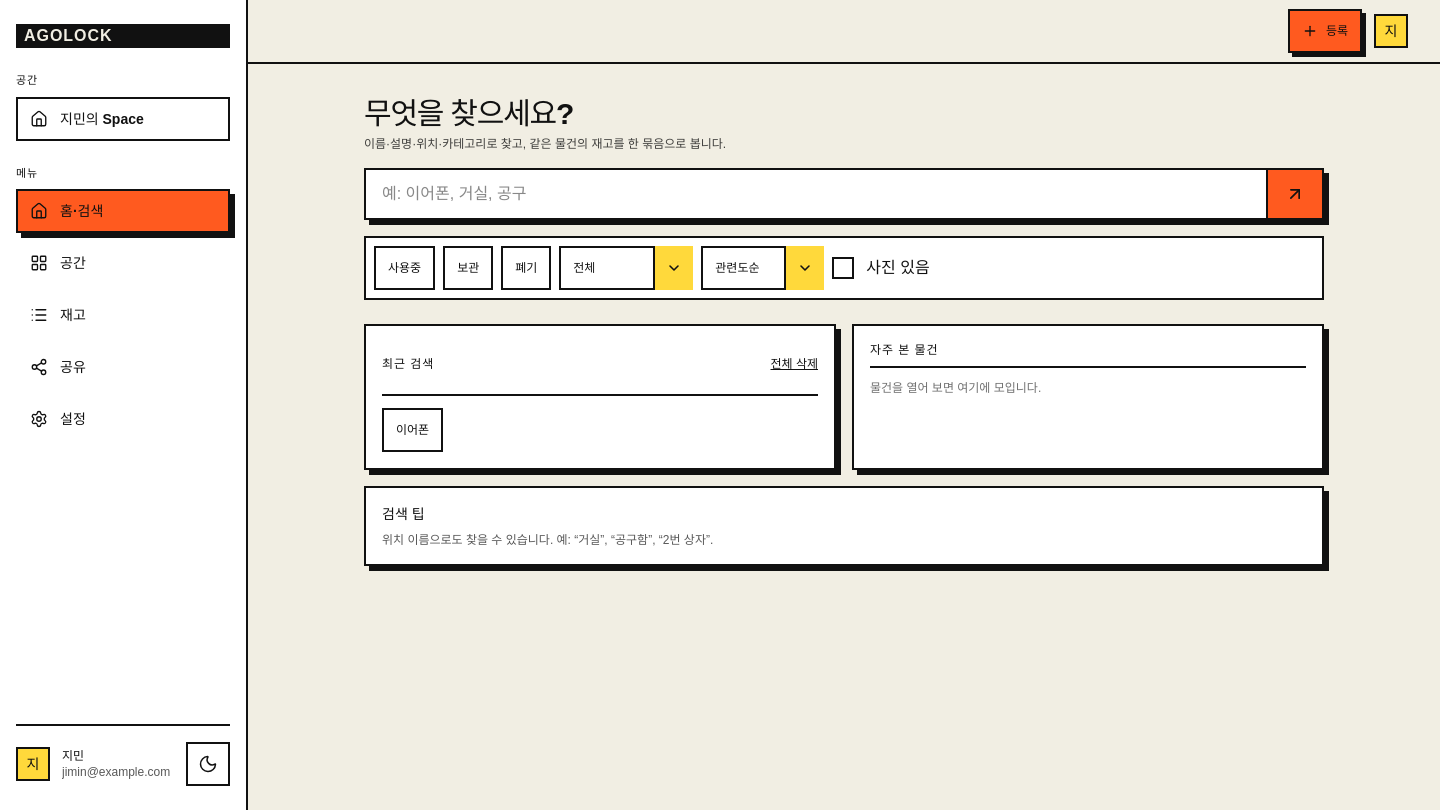
Test: 검색 › 최근 검색어를 누르면 결과를 불러온다
Expected: the text "최근 검색" is shown, [382,356,434,372]
What coordinates should you click on to do the following:
click the button "이어폰"
I would click on:
 (413, 430)
Its box is [382,408,443,452].
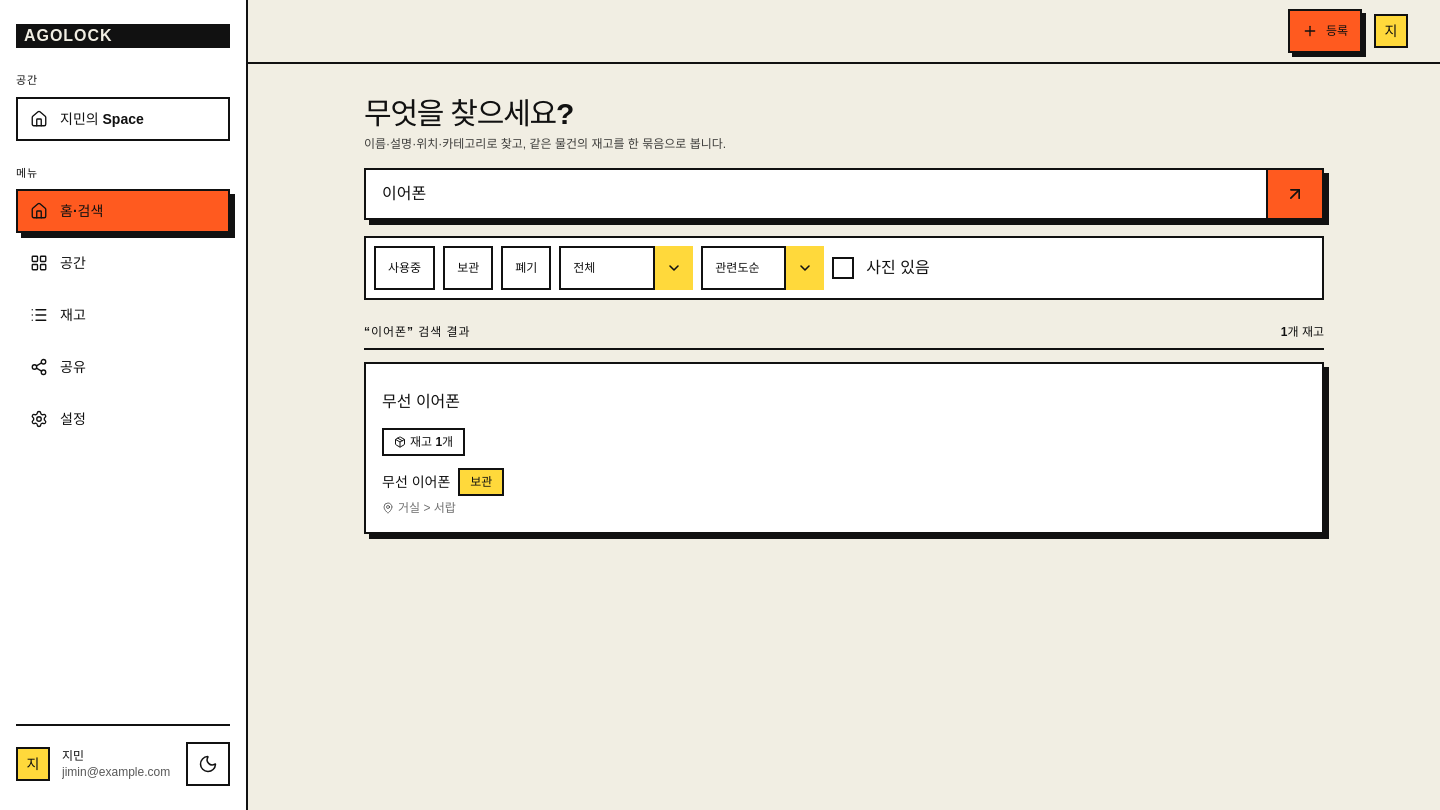
Result: the text "“이어폰” 검색 결과" is shown at [364,324,470,340]
Result: the link "무선 이어폰" is shown at [382,393,460,410]
